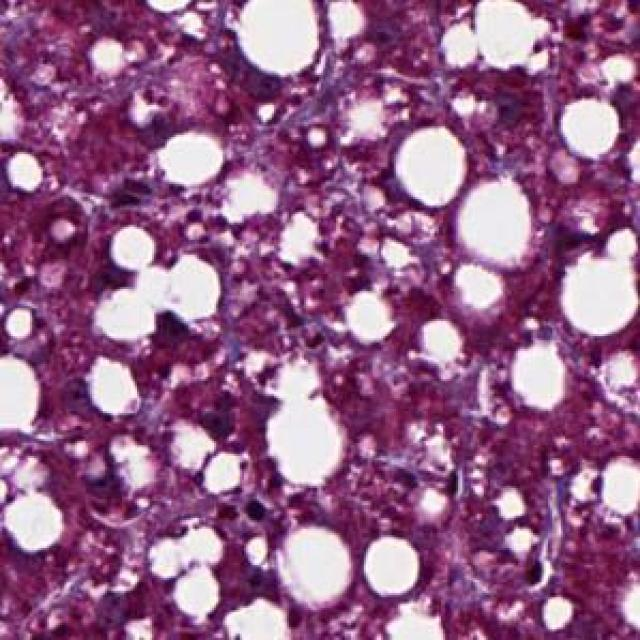steatosis: (396, 133, 473, 210), (368, 531, 430, 597), (160, 124, 227, 184)
